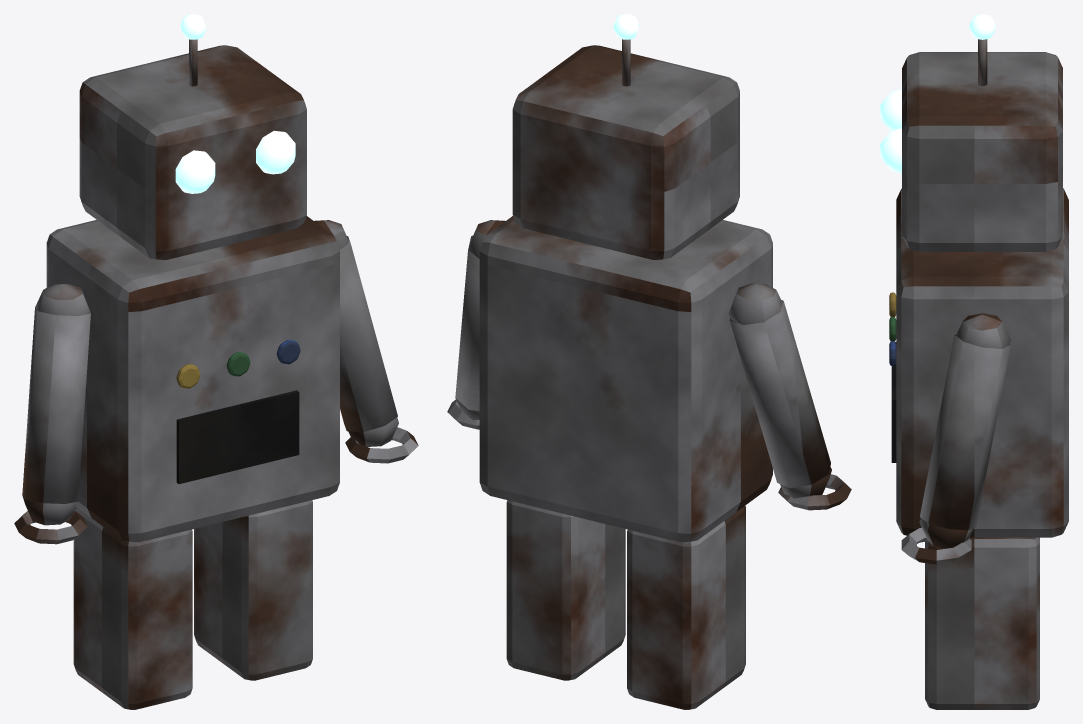
Rendered from TY01_large_retro_toy_robot_v1.glb.
The picture shows the model from 3 angles, left to right: view 1: azimuth 30°, elevation 25°; view 2: azimuth 150°, elevation 25°; view 3: azimuth 270°, elevation 25°; orthographic projection.
Visible parts, largest first — view 1: TY01_large_retro_toy_robot_v1; view 2: TY01_large_retro_toy_robot_v1; view 3: TY01_large_retro_toy_robot_v1.
Part boxes in pixels (bbox=[...]): TY01_large_retro_toy_robot_v1: bbox=[14, 14, 418, 709]; TY01_large_retro_toy_robot_v1: bbox=[447, 14, 851, 709]; TY01_large_retro_toy_robot_v1: bbox=[880, 14, 1068, 709].
Bounding box in the file's own units: 0.377 × 0.6 × 0.157.
6 materials, 5 textured.
